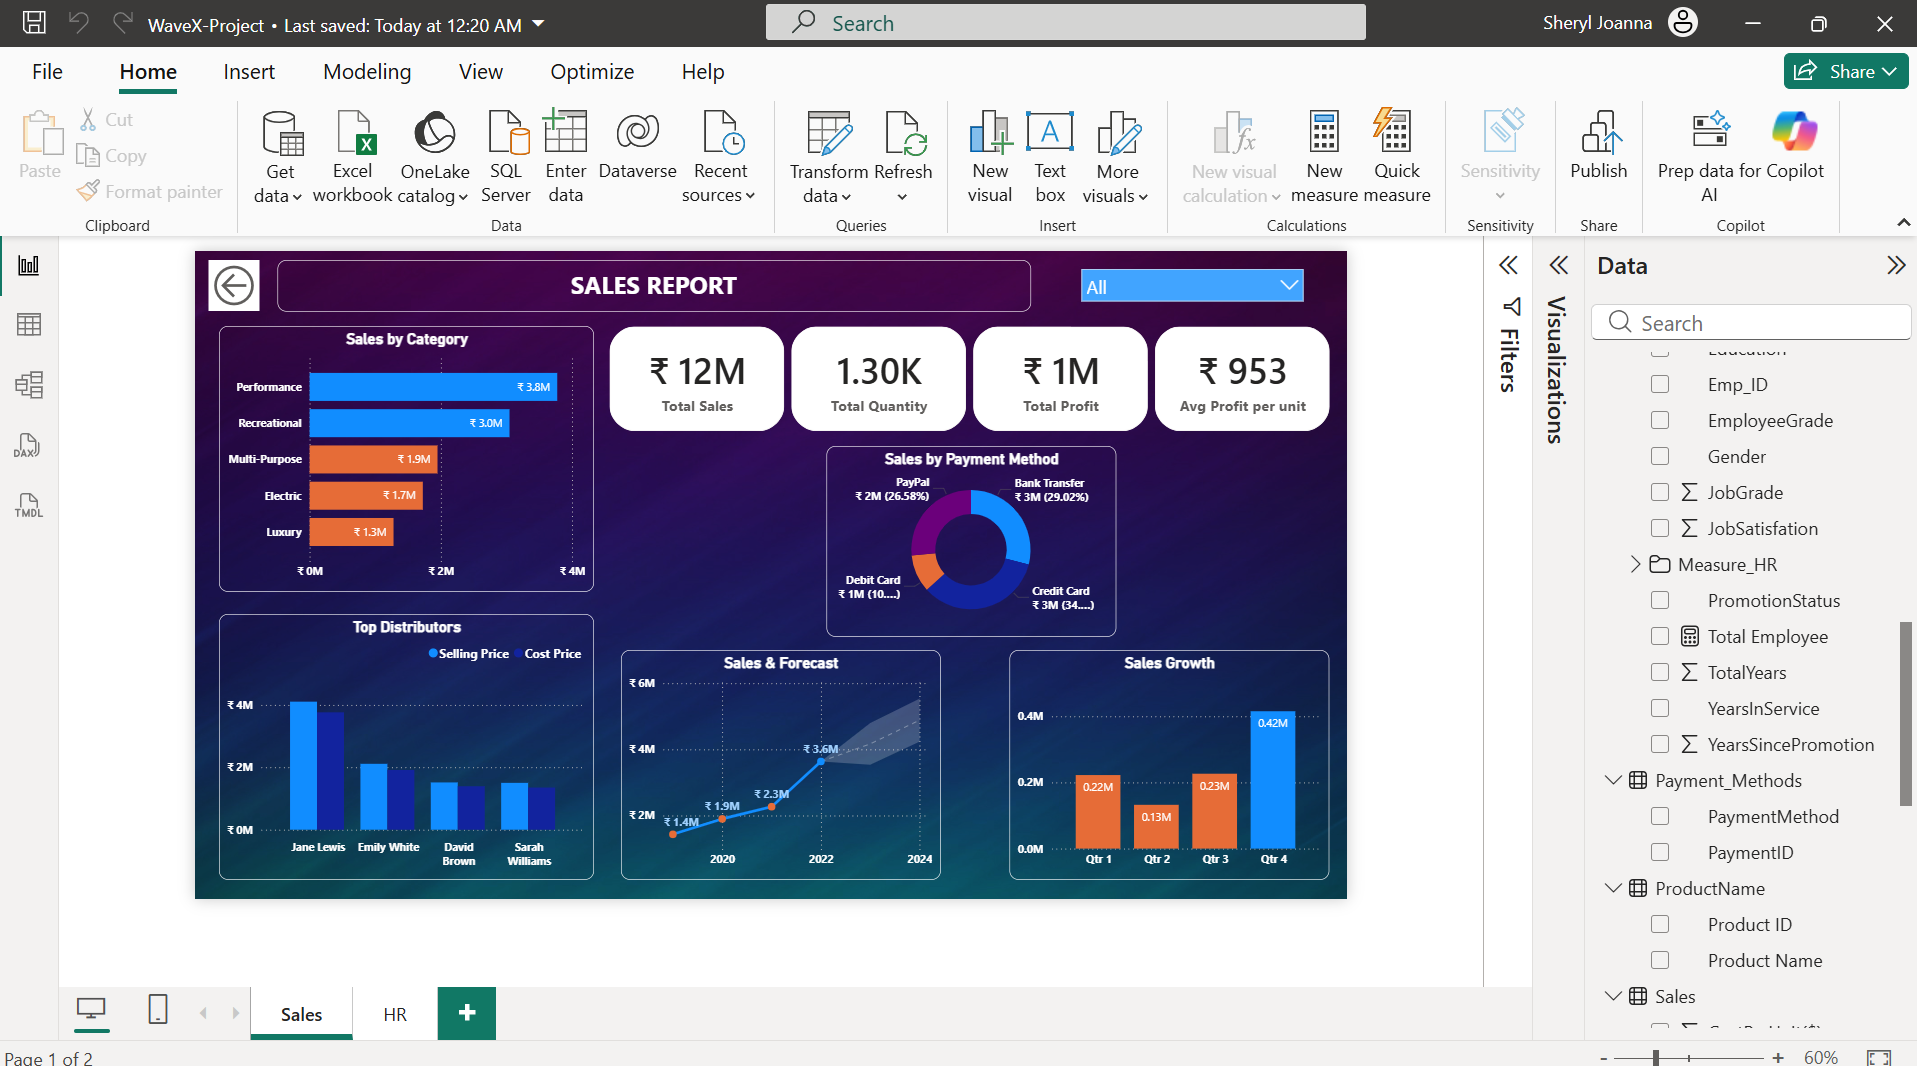

This screenshot's page, from the dashboard's own definition file:
{"tool":"powerbi","page":{"name":"Sales","canvas":[1280,720],"ordinal":0},"visuals":[{"type":"textbox","box":[92,10,837,57],"z":0},{"type":"cardVisual","fields":{"Data":["Sum(Sales.Sales($))","Sum(Sales.QuantitySold )","Sum(Sales.Profit)","Avg(Sales.ProfitPerUnit)"]},"box":[443.3,66.7,836.7,150],"z":1000},{"type":"barChart","title":"Sales by Category","fields":{"Y":["Sum(Sales.Sales($))"],"Category":["Category.CategoryType"]},"box":[26.7,83.3,416.7,295],"z":2000},{"type":"clusteredColumnChart","title":"Top Distributors","fields":{"Y":["Sum(Sales.Sales($))","Sum(Sales.TotalProductionCost)"],"Category":["Distributor.FullName"]},"box":[26.7,403.3,416.7,295],"z":3000},{"type":"clusteredColumnChart","title":"Sales Growth","fields":{"Category":["Sales.Date       .Variation.Date Hierarchy.Year","Sales.Date       .Variation.Date Hierarchy.Quarter","Sales.Date       .Variation.Date Hierarchy.Month","Sales.Date       .Variation.Date Hierarchy.Day"],"Y":["Sales.TotalProfitMeasure"]},"box":[905,443.3,355,255],"z":4000},{"type":"lineChart","title":"Sales & Forecast","fields":{"Category":["Sales.Date       .Variation.Date Hierarchy.Year","Sales.Date       .Variation.Date Hierarchy.Quarter","Sales.Date       .Variation.Date Hierarchy.Month","Sales.Date       .Variation.Date Hierarchy.Day"],"Y":["Sum(Sales.Sales($))"]},"box":[473.3,443.3,355,255],"z":5000},{"type":"donutChart","title":"Sales by Payment Method","fields":{"Y":["Sum(Sales.Sales($))"],"Series":["Sales.Payment_Methods. PaymentMethod "]},"box":[701.7,216.7,321.7,211.7],"z":6000},{"type":"slicer","fields":{"Values":["Sales.Date       .Variation.Date Hierarchy.Year"]},"box":[975,10,266.7,73.3],"z":7000},{"type":"actionButton","box":[15,10,56.7,56.7],"z":8000}]}

Visuals, with their boxes on the page's 1280x720 design canvas (x1, y1, x2, y2). These are canvas units, not pixel positions in the 1917x1066 screenshot, which may show the page scaled, cropped or inside an application window:
textbox: box(92, 10, 929, 67)
cardVisual - Sum(Sales.Sales($)) x Sum(Sales.QuantitySold ): box(443, 67, 1280, 217)
"Sales by Category" barChart: box(27, 83, 443, 378)
"Top Distributors" clusteredColumnChart: box(27, 403, 443, 698)
"Sales Growth" clusteredColumnChart: box(905, 443, 1260, 698)
"Sales & Forecast" lineChart: box(473, 443, 828, 698)
"Sales by Payment Method" donutChart: box(702, 217, 1023, 428)
slicer - Sales.Date       .Variation.Date Hierarchy.Year: box(975, 10, 1242, 83)
actionButton: box(15, 10, 72, 67)
